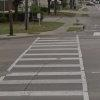Crosswalk: (13, 32, 100, 100)
